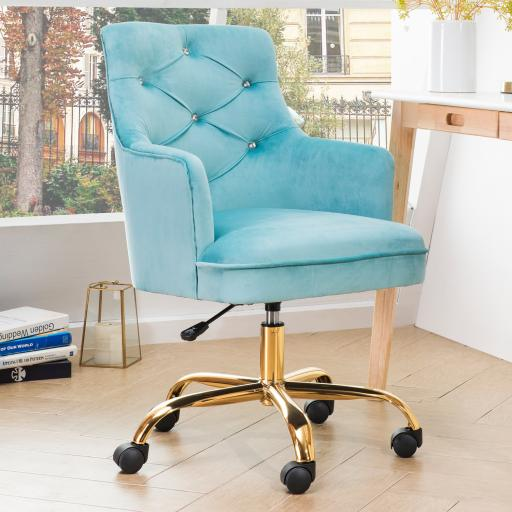chair: (100, 21, 428, 494)
desk: (371, 89, 512, 390)
